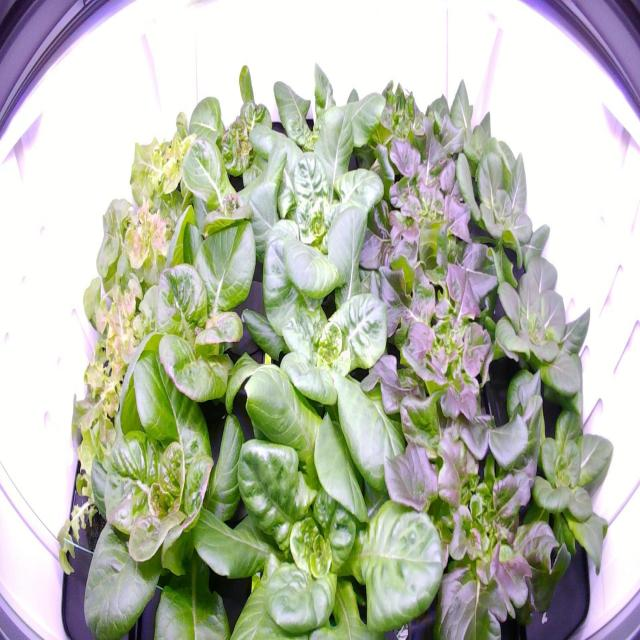Ready: (210, 352, 447, 640), (79, 332, 282, 640)
young: (231, 199, 428, 504), (114, 203, 273, 449), (479, 364, 618, 604), (248, 111, 388, 298), (163, 133, 298, 310), (474, 244, 602, 418), (178, 54, 284, 215), (267, 51, 393, 186), (444, 131, 557, 277), (407, 67, 516, 196)
